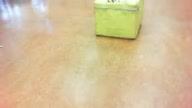cube: (94, 1, 145, 40)
